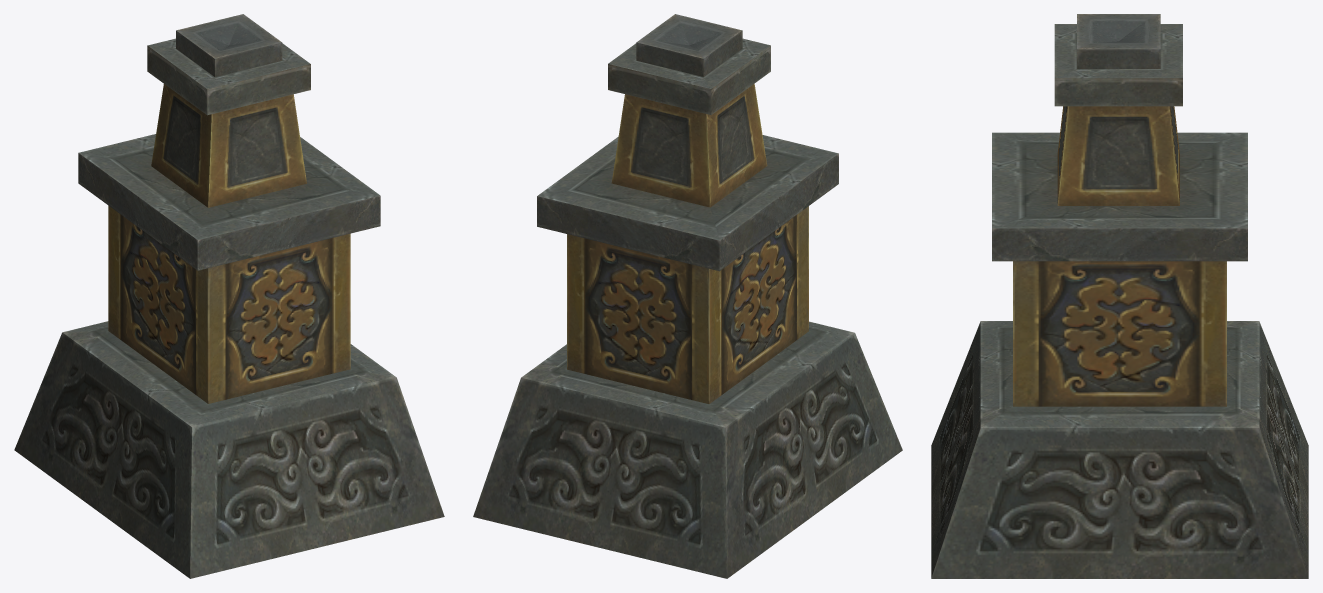
File: tai_zi_003.FBX
The picture shows the model from 3 angles, left to right: view 1: azimuth 30°, elevation 25°; view 2: azimuth 150°, elevation 25°; view 3: azimuth 270°, elevation 25°; orthographic projection. The views are drawn at different scales.
Visible parts, largest first — view 1: tai_zi_003_a01; view 2: tai_zi_003_a01; view 3: tai_zi_003_a01.
Boxes of the visible parts, x1=… form: tai_zi_003_a01: x1=14, y1=14, x2=444, y2=578; tai_zi_003_a01: x1=473, y1=14, x2=902, y2=578; tai_zi_003_a01: x1=931, y1=14, x2=1308, y2=578.
Size of the model in its own units: 292 by 491 by 350.
Materials: 1 (1 with a texture image).
